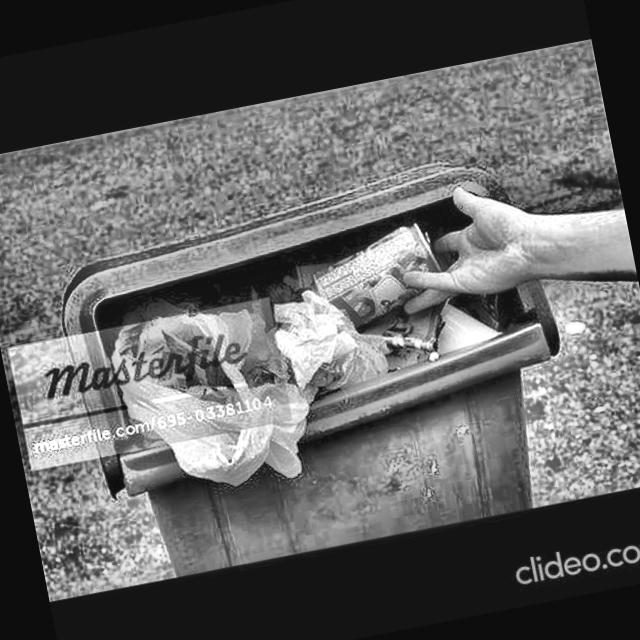Empty: (84, 187, 566, 458)
